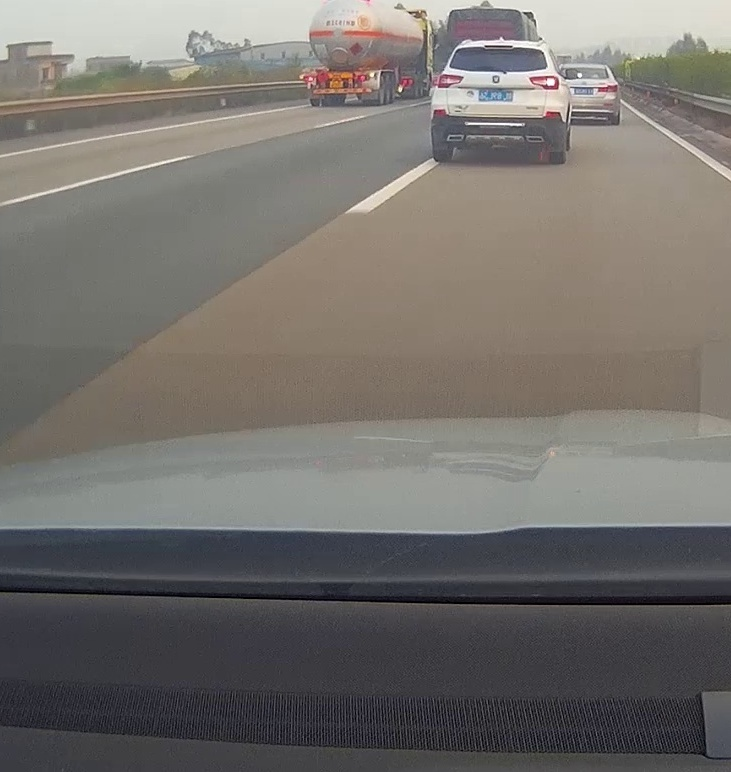L_light: (436, 74, 464, 88), (303, 76, 314, 81)
R_light: (529, 75, 559, 90), (357, 75, 369, 81)
T_light: (484, 44, 513, 49), (333, 72, 342, 75)
day-no: (299, 69, 381, 106)
day-right: (430, 40, 566, 164)
